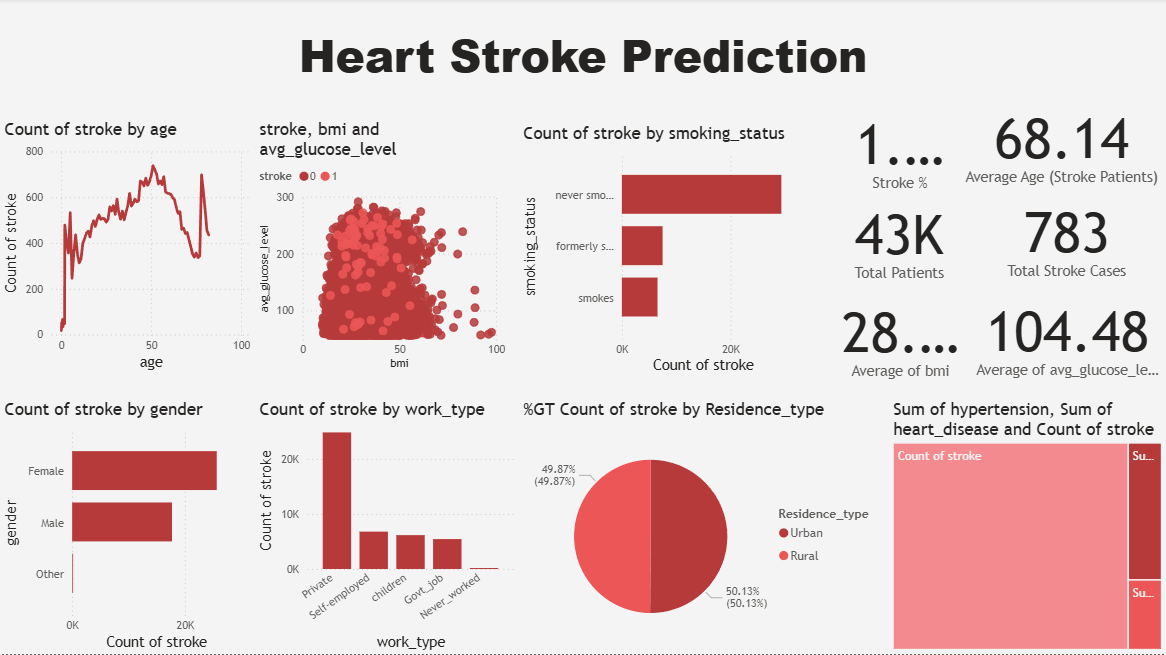

Layout of this report page (visuals, bound fields, positions):
{"tool":"powerbi","page":{"name":"Page 1","canvas":[1280,720],"ordinal":0},"visuals":[{"type":"barChart","fields":{"Y":["CountNonNull(train_2v_cleaned.stroke)"],"Category":["train_2v_cleaned.gender"]},"box":[0,440.5,279.9,279.9],"z":0},{"type":"columnChart","fields":{"Category":["train_2v_cleaned.work_type"],"Y":["CountNonNull(train_2v_cleaned.stroke)"]},"box":[279.9,440.5,289.5,279.9],"z":1000},{"type":"pieChart","fields":{"Category":["train_2v_cleaned.Residence_type"],"Y":["Sum(train_2v_cleaned.stroke)"]},"box":[569.5,440.5,406.2,279.9],"z":2000},{"type":"barChart","fields":{"Category":["train_2v_cleaned.smoking_status"],"Y":["CountNonNull(train_2v_cleaned.stroke)"]},"box":[569.5,137.2,307.4,279.9],"z":3000},{"type":"lineChart","fields":{"Y":["CountNonNull(train_2v_cleaned.stroke)"],"Category":["train_2v_cleaned.age"]},"box":[0,133.1,279.9,279.9],"z":4000},{"type":"scatterChart","fields":{"X":["train_2v_cleaned.bmi"],"Y":["train_2v_cleaned.avg_glucose_level"],"Series":["train_2v_cleaned.stroke"]},"box":[279.9,133.1,279.9,279.9],"z":5000},{"type":"treemap","fields":{"Values":["Sum(train_2v_cleaned.hypertension)","Sum(train_2v_cleaned.heart_disease)","CountNonNull(train_2v_cleaned.stroke)"]},"box":[975.6,440.5,304.6,279.9],"z":6000},{"type":"card","fields":{"Values":["Avg(train_2v_cleaned.avg_glucose_level)"]},"box":[1063.5,308.7,216.8,124.9],"z":7000},{"type":"card","fields":{"Values":["Avg(train_2v_cleaned.bmi)"]},"box":[911.2,317,155.1,109.8],"z":8000},{"type":"card","fields":{"Values":["train_2v_cleaned.Total Patients"]},"box":[902.9,212.7,168.8,102.9],"z":9000},{"type":"card","fields":{"Values":["train_2v_cleaned.Total Stroke Cases"]},"box":[1086.8,208.6,168.8,107],"z":10000},{"type":"card","fields":{"Values":["train_2v_cleaned.Stroke %"]},"box":[926.2,112.5,123.5,105.7],"z":11000},{"type":"card","fields":{"Values":["train_2v_cleaned.Average Age (Stroke Patients)"]},"box":[1051.1,100.2,229.2,118],"z":12000},{"type":"textbox","box":[0,23.3,1280.3,89.2],"z":13000}]}

Visuals, with their boxes in screenshot pixels (x1, y1, x2, y2), scaled from the page's 1280x720 canvas onto the 1166x655 screenshot:
barChart - CountNonNull(train_2v_cleaned.stroke) x train_2v_cleaned.gender: (0, 401, 255, 654)
columnChart - train_2v_cleaned.work_type x CountNonNull(train_2v_cleaned.stroke): (255, 401, 519, 654)
pieChart - train_2v_cleaned.Residence_type x Sum(train_2v_cleaned.stroke): (519, 401, 889, 654)
barChart - train_2v_cleaned.smoking_status x CountNonNull(train_2v_cleaned.stroke): (519, 125, 799, 379)
lineChart - CountNonNull(train_2v_cleaned.stroke) x train_2v_cleaned.age: (0, 121, 255, 376)
scatterChart - train_2v_cleaned.bmi x train_2v_cleaned.avg_glucose_level: (255, 121, 510, 376)
treemap - Sum(train_2v_cleaned.hypertension) x Sum(train_2v_cleaned.heart_disease): (889, 401, 1165, 654)
card - Avg(train_2v_cleaned.avg_glucose_level): (969, 281, 1165, 394)
card - Avg(train_2v_cleaned.bmi): (830, 288, 971, 388)
card - train_2v_cleaned.Total Patients: (822, 193, 976, 287)
card - train_2v_cleaned.Total Stroke Cases: (990, 190, 1144, 287)
card - train_2v_cleaned.Stroke %: (844, 102, 956, 199)
card - train_2v_cleaned.Average Age (Stroke Patients): (957, 91, 1165, 199)
textbox: (0, 21, 1165, 102)
